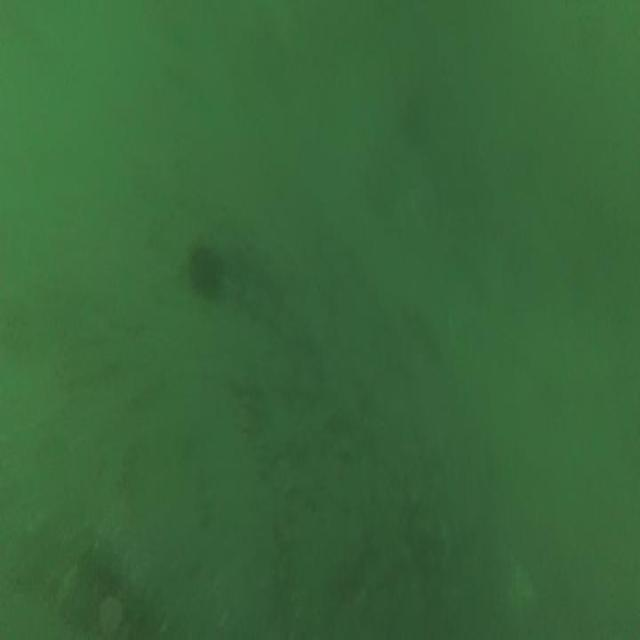echinus: (182, 232, 230, 305)
